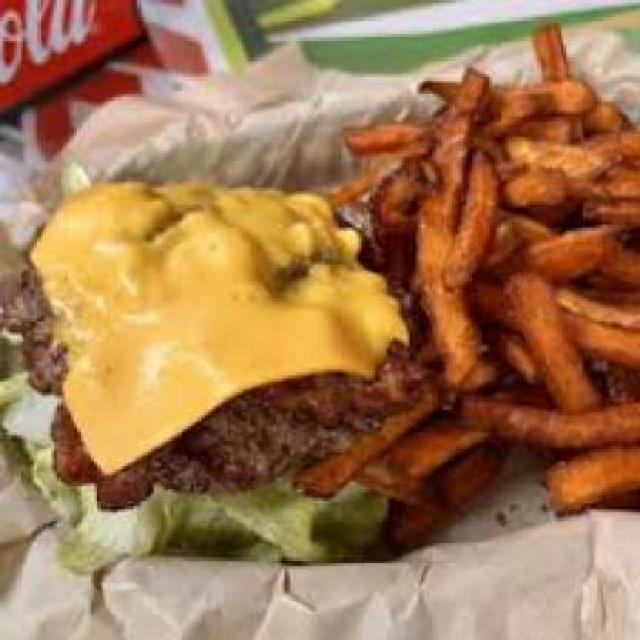french fries: (352, 22, 637, 544)
hamburger: (6, 162, 399, 563)
